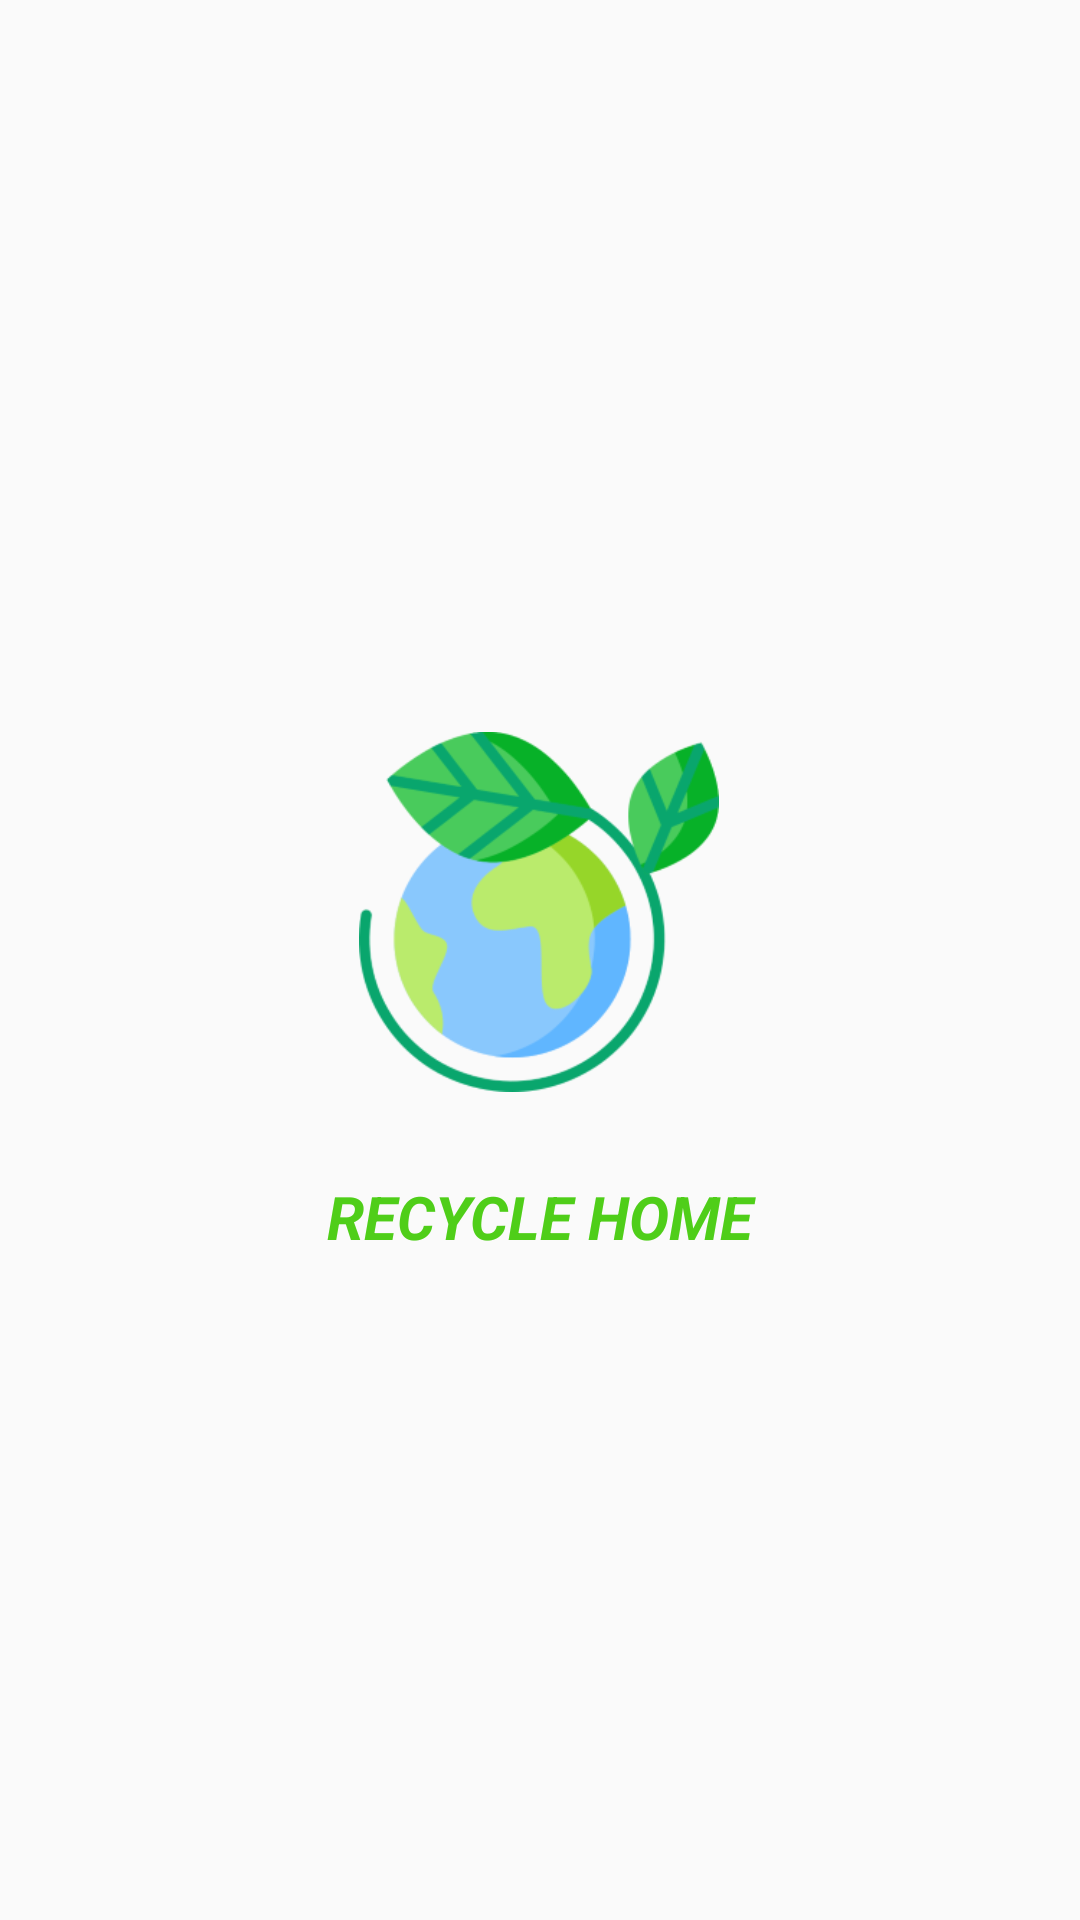

Locate icon controls on the screen. Image size 1080*1920, boxes as {"left": x1, "top": y1, "right": x2, "bottom": y2}.
planetearth: {"left": 359, "top": 732, "right": 719, "bottom": 1092}
